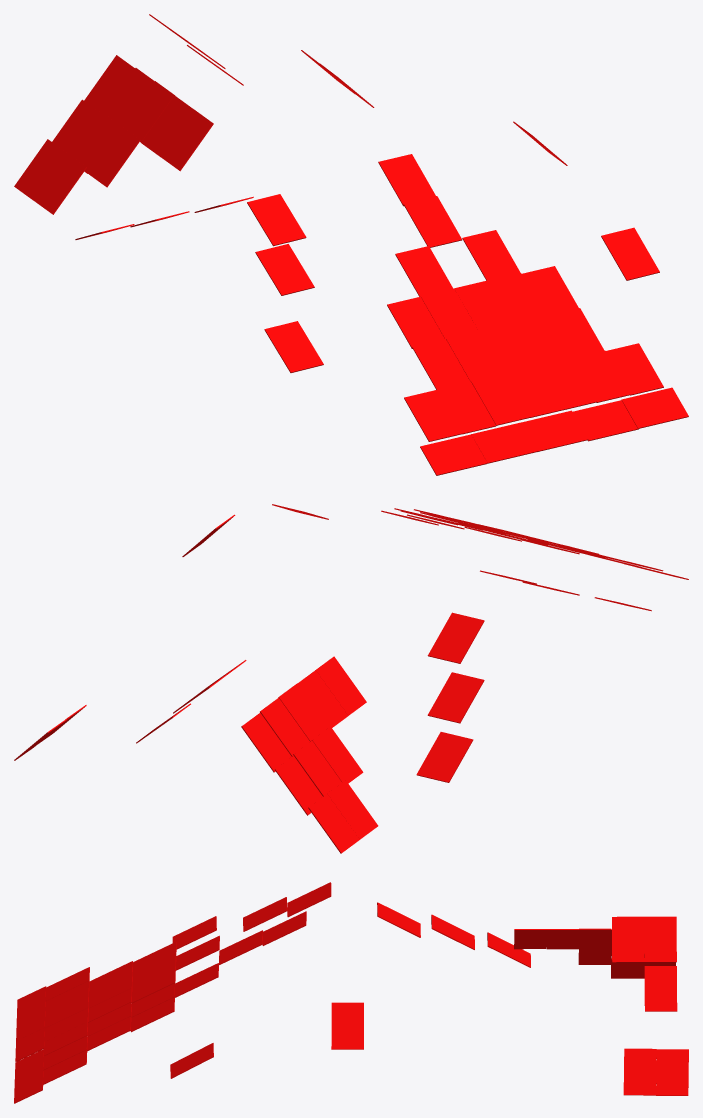
Rendered from panels_dsm_red.glb.
The picture shows the model from 3 angles, top to bottom: view 1: azimuth 30°, elevation 25°; view 2: azimuth 150°, elevation 25°; view 3: azimuth 270°, elevation 25°; orthographic projection. The views are drawn at different scales.
Parts seen in each view (by area): view 1: dbaeff59-18f4-4b8d-a184-d6b32cc15f90, f4339f32-a1a7-4e3e-8eb2-4d20ea007c15, 03c6ff87-2242-4949-8814-89d451e4f497, f098f2c6-ede0-42c1-b0ac-037d99db7ad2, 5171a5c7-563c-43dd-a32a-0e3b3faea0b5, 90f185f8-3208-4dce-823e-43d7915e9a88, 63d75829-ea83-4cf6-b170-3750681b6aab, aedbfcde-c954-41f3-9448-362a467e5361, e4505881-46b6-4c64-965f-1f117a1570d8, d545ee1f-6df0-4051-844e-b528ea07fc98, 891018d1-1ea6-45a8-9bec-ae576016fb74, 76d45096-b9b0-4358-ba3a-41d6cb80d8f5 (+28 smaller); view 2: d4c3a4d2-5107-4b23-96dd-afad27cc146d, 8f6ac395-0142-447d-b33e-5aec8e8ac9e7, 63ffc876-bf7d-4351-a311-9f11215ecfd3, 698a2006-170a-4ab4-8072-623eff3d1edf, af69ae5f-ee51-4233-8c2b-c2073fc1c6e0, 0727ac03-fa6d-4731-a91c-796daaded5f8, 447b8948-491a-4f8c-a2c6-c4b764409dd1, b15308ef-3f24-4a3a-a455-1a6e1cb33bcf, 65ef6218-98f4-4e6e-ad83-200bab6f301a, 606c3198-c8da-4e33-9950-6af29ccd39cb, f2497483-ce98-4bc4-8612-6eaf4869714a, 7e14dde5-9353-4901-a41c-c09f94e39a84 (+1 smaller); view 3: 628e7480-511d-4ff5-8308-8fe29248217b, 1c0f1c87-8815-4236-82dc-0c3867ad0f10, c58a458f-3fd3-4027-868b-e9008872eddd, 0820434f-807b-490e-bdd9-d532a7376dbc, aab82bdb-cee9-4263-a4a8-0b5a0ba643e6, 52ea5561-c622-445b-bfa2-a1d87ae0e4bd, aedbfcde-c954-41f3-9448-362a467e5361, 606c3198-c8da-4e33-9950-6af29ccd39cb, f2497483-ce98-4bc4-8612-6eaf4869714a, e4505881-46b6-4c64-965f-1f117a1570d8, d4c3a4d2-5107-4b23-96dd-afad27cc146d, 63ffc876-bf7d-4351-a311-9f11215ecfd3 (+32 smaller).
Boxes of the visible parts, x1,y1,x2,y2 form: dbaeff59-18f4-4b8d-a184-d6b32cc15f90: (601,227,659,280); f4339f32-a1a7-4e3e-8eb2-4d20ea007c15: (420,434,487,475); 03c6ff87-2242-4949-8814-89d451e4f497: (404,389,462,441); f098f2c6-ede0-42c1-b0ac-037d99db7ad2: (403,196,462,247); 5171a5c7-563c-43dd-a32a-0e3b3faea0b5: (621,387,688,428); 90f185f8-3208-4dce-823e-43d7915e9a88: (471,422,538,463); 63d75829-ea83-4cf6-b170-3750681b6aab: (471,373,529,425); aedbfcde-c954-41f3-9448-362a467e5361: (247,194,306,246); e4505881-46b6-4c64-965f-1f117a1570d8: (255,244,314,295); d545ee1f-6df0-4051-844e-b528ea07fc98: (264,321,323,372); 891018d1-1ea6-45a8-9bec-ae576016fb74: (538,358,596,410); 76d45096-b9b0-4358-ba3a-41d6cb80d8f5: (505,366,563,417); d4c3a4d2-5107-4b23-96dd-afad27cc146d: (427,672,484,723); 8f6ac395-0142-447d-b33e-5aec8e8ac9e7: (416,732,473,782); 63ffc876-bf7d-4351-a311-9f11215ecfd3: (427,612,484,663); 698a2006-170a-4ab4-8072-623eff3d1edf: (308,794,359,853); af69ae5f-ee51-4233-8c2b-c2073fc1c6e0: (241,713,291,772); 0727ac03-fa6d-4731-a91c-796daaded5f8: (315,656,366,715); 447b8948-491a-4f8c-a2c6-c4b764409dd1: (327,780,378,839); b15308ef-3f24-4a3a-a455-1a6e1cb33bcf: (311,726,363,783); 65ef6218-98f4-4e6e-ad83-200bab6f301a: (260,697,309,756); 606c3198-c8da-4e33-9950-6af29ccd39cb: (297,670,348,727); f2497483-ce98-4bc4-8612-6eaf4869714a: (278,683,328,741); 7e14dde5-9353-4901-a41c-c09f94e39a84: (275,756,322,815); 628e7480-511d-4ff5-8308-8fe29248217b: (331,1002,363,1049); 1c0f1c87-8815-4236-82dc-0c3867ad0f10: (623,1048,656,1095); c58a458f-3fd3-4027-868b-e9008872eddd: (656,1049,688,1095); 0820434f-807b-490e-bdd9-d532a7376dbc: (644,916,676,962); aab82bdb-cee9-4263-a4a8-0b5a0ba643e6: (612,916,644,962); 52ea5561-c622-445b-bfa2-a1d87ae0e4bd: (644,966,677,1011); aedbfcde-c954-41f3-9448-362a467e5361: (287,882,331,917); 606c3198-c8da-4e33-9950-6af29ccd39cb: (546,929,578,949); f2497483-ce98-4bc4-8612-6eaf4869714a: (579,928,611,948); e4505881-46b6-4c64-965f-1f117a1570d8: (243,897,287,931); d4c3a4d2-5107-4b23-96dd-afad27cc146d: (431,914,474,949); 63ffc876-bf7d-4351-a311-9f11215ecfd3: (377,902,420,937).
Bounding box in the file's own units: 12.76 × 5.29 × 23.64.
